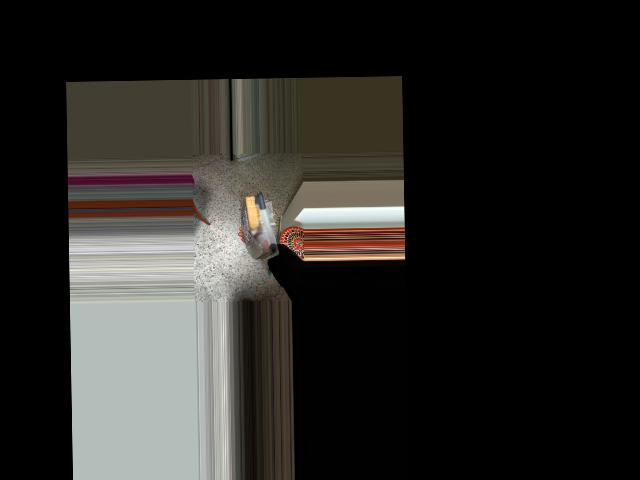cheese: (239, 192, 281, 259)
